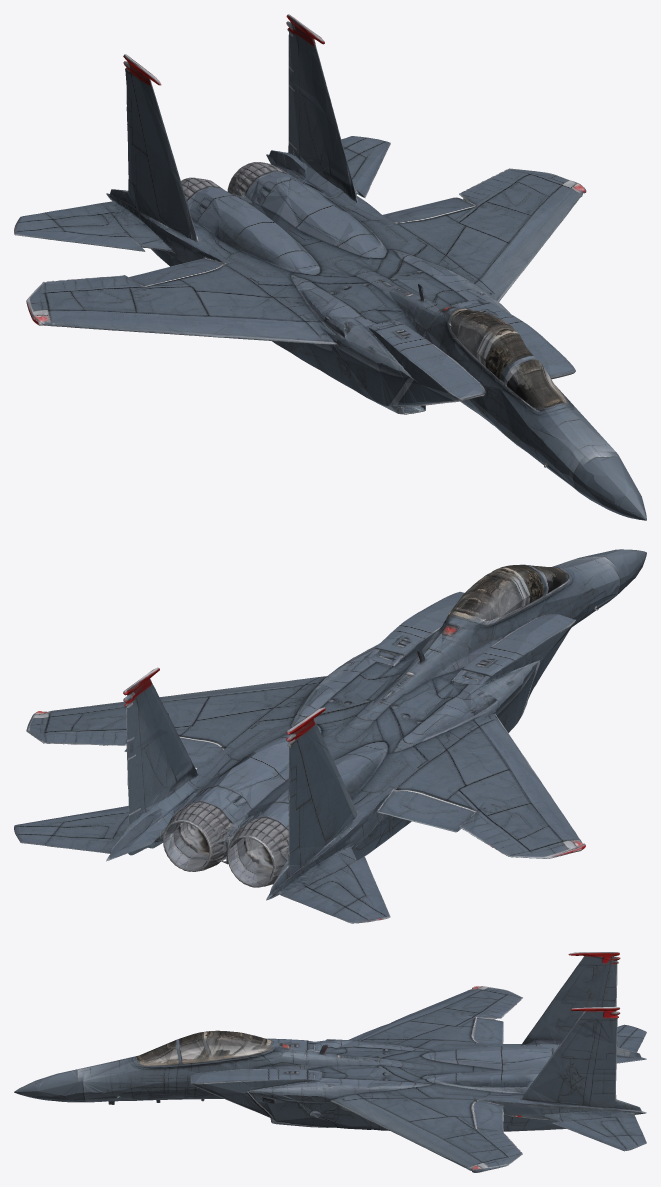
3 views of the same model, one above another, from view 1: azimuth 30°, elevation 25°; view 2: azimuth 150°, elevation 25°; view 3: azimuth 270°, elevation 25° (orthographic). The views are drawn at different scales.
Size of the model in its own units: 1.31 by 0.4414 by 1.9.
Materials: 1 (1 with a texture image).
